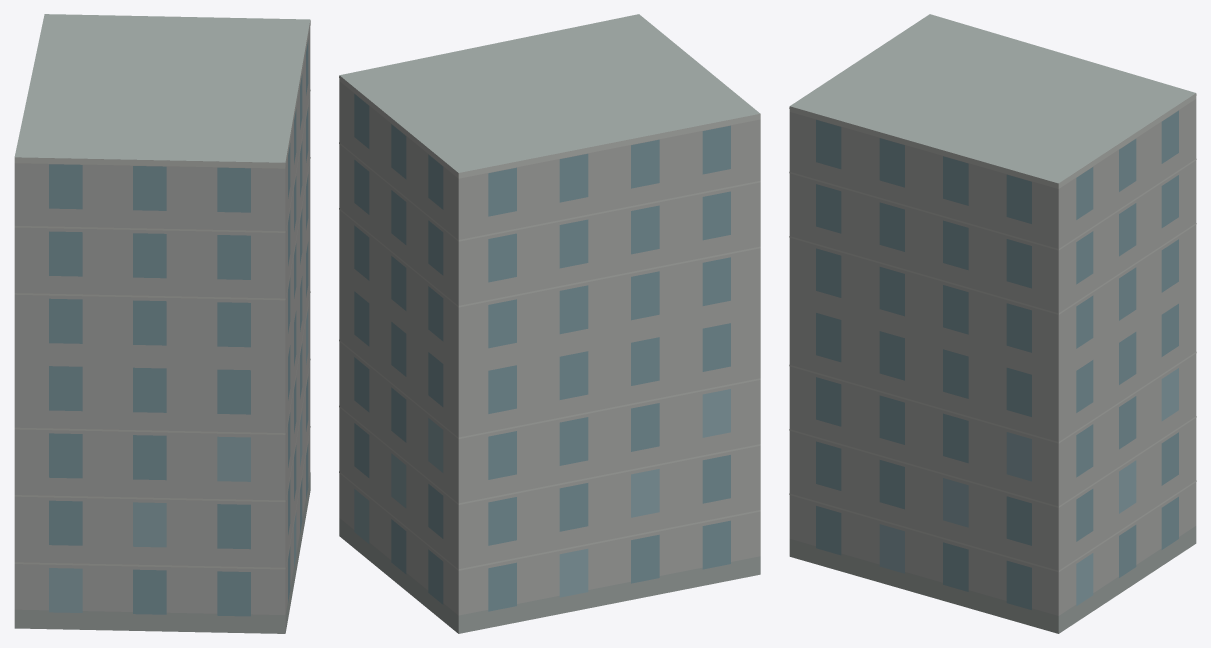
File: survey-upis-32769547.glb
The picture shows the model from 3 angles, left to right: view 1: azimuth 30°, elevation 25°; view 2: azimuth 150°, elevation 25°; view 3: azimuth 270°, elevation 25°; orthographic projection. The views are drawn at different scales.
Visible parts, largest first — view 1: survey-upis-32769547.tmp; view 2: survey-upis-32769547.tmp; view 3: survey-upis-32769547.tmp.
Part boxes in pixels (x1,y1,x2,y2): survey-upis-32769547.tmp: (14,14,310,633); survey-upis-32769547.tmp: (339,14,760,633); survey-upis-32769547.tmp: (789,14,1196,633).
Bounding box in the file's own units: 15.92 × 19.7 × 16.14.
